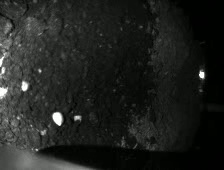corn: (51, 109, 66, 129), (19, 78, 31, 94), (72, 112, 85, 125)
